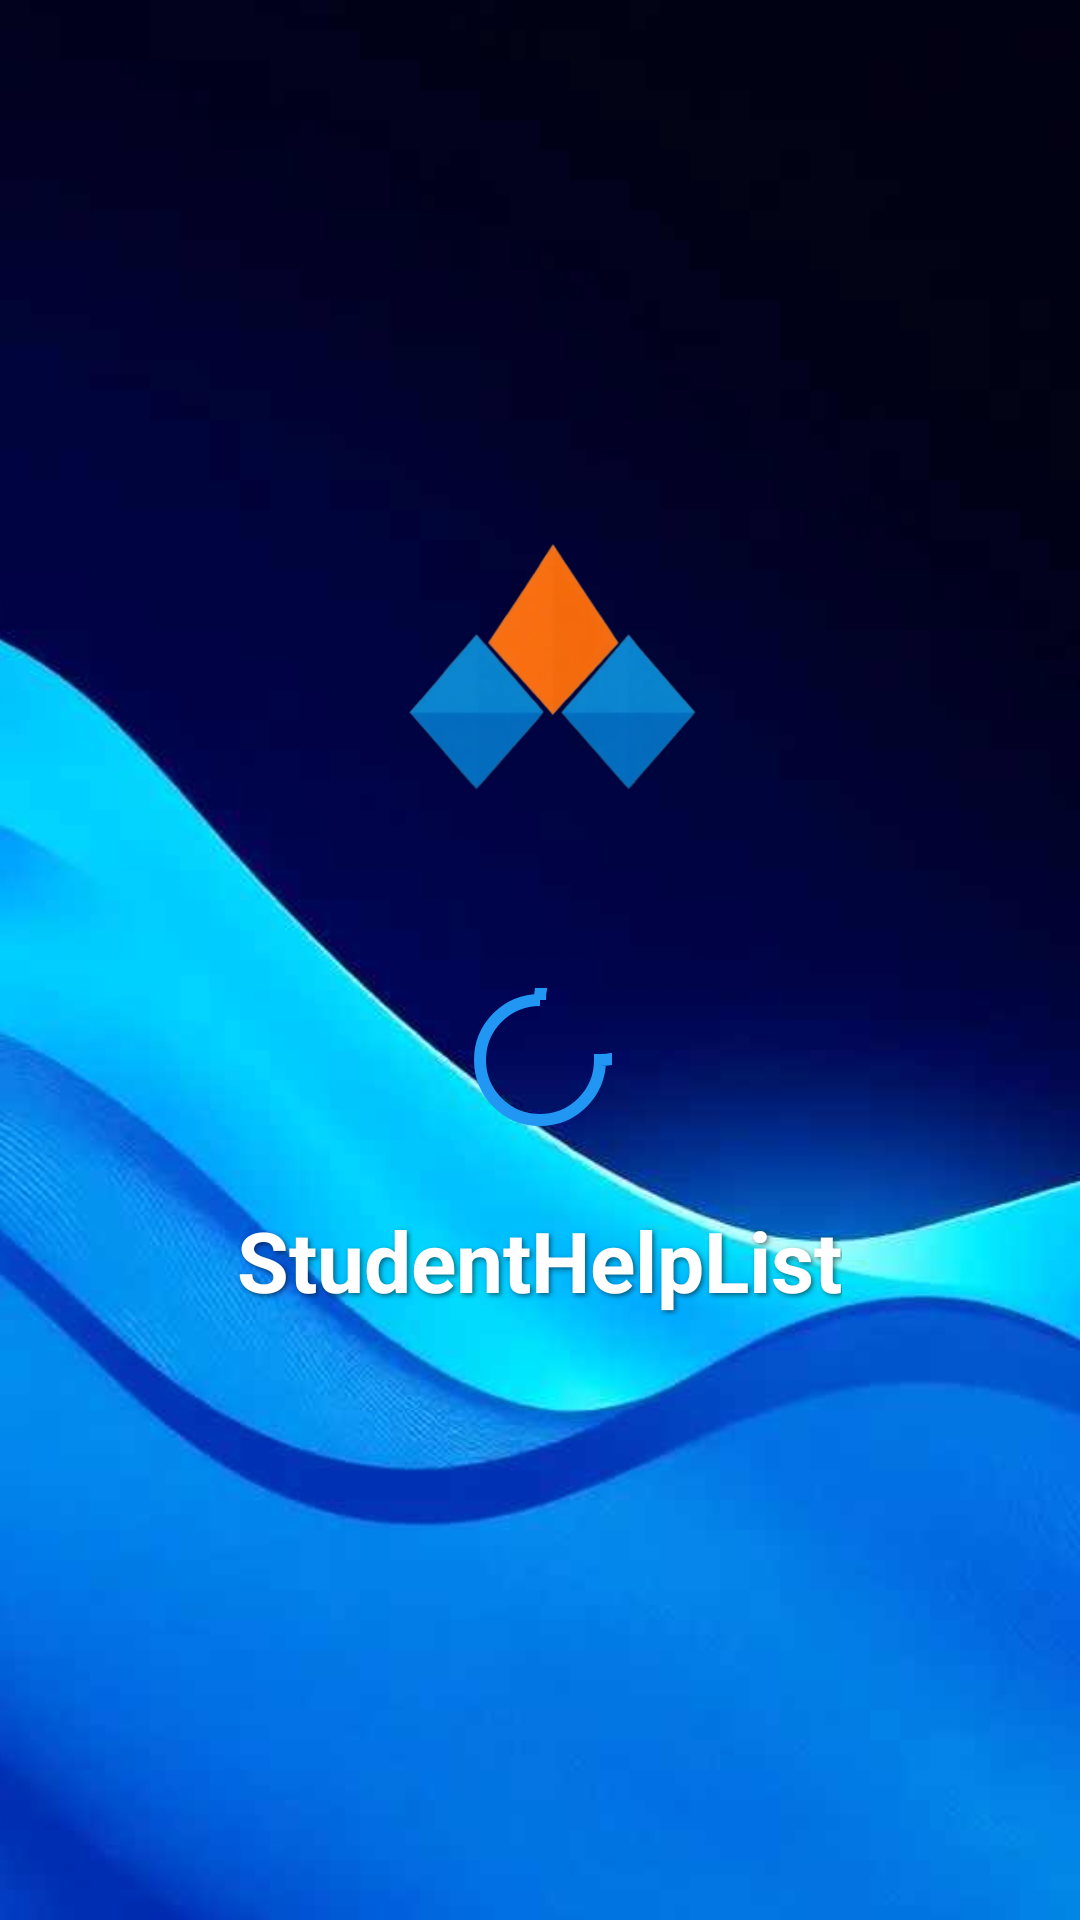

Where to tap for icons on this 1080x1920 app screen, as (x,y):
Loading Animation: (540,1060)
